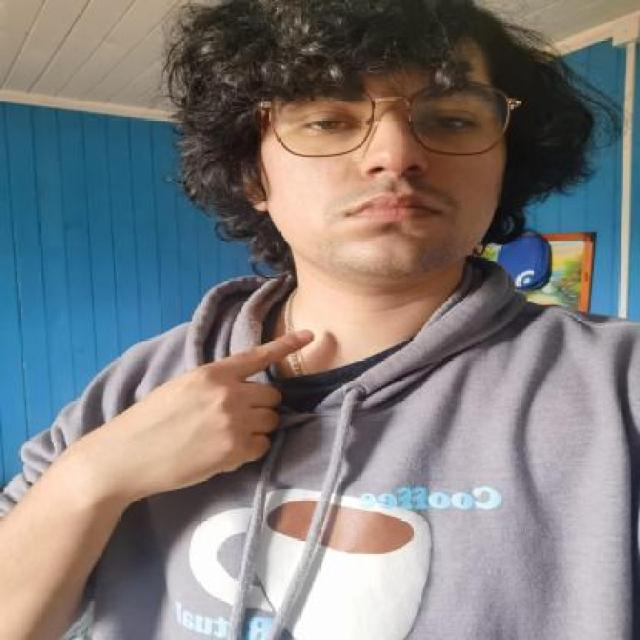Q: (95, 328, 319, 492)
